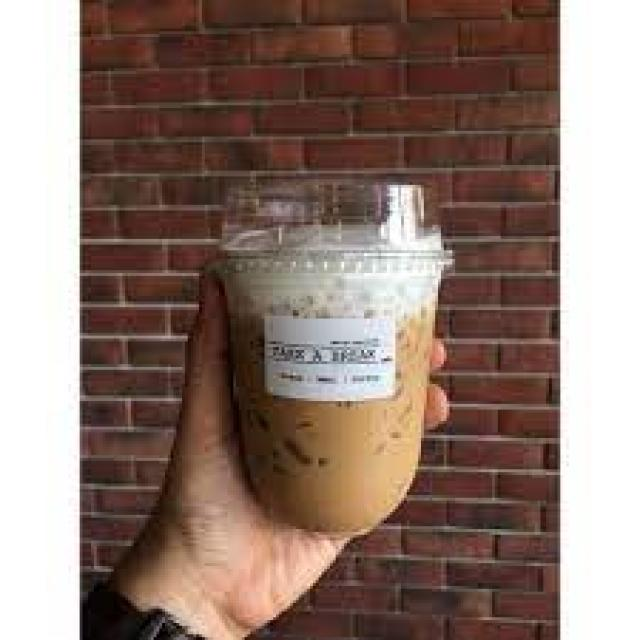cup: (208, 179, 456, 536)
